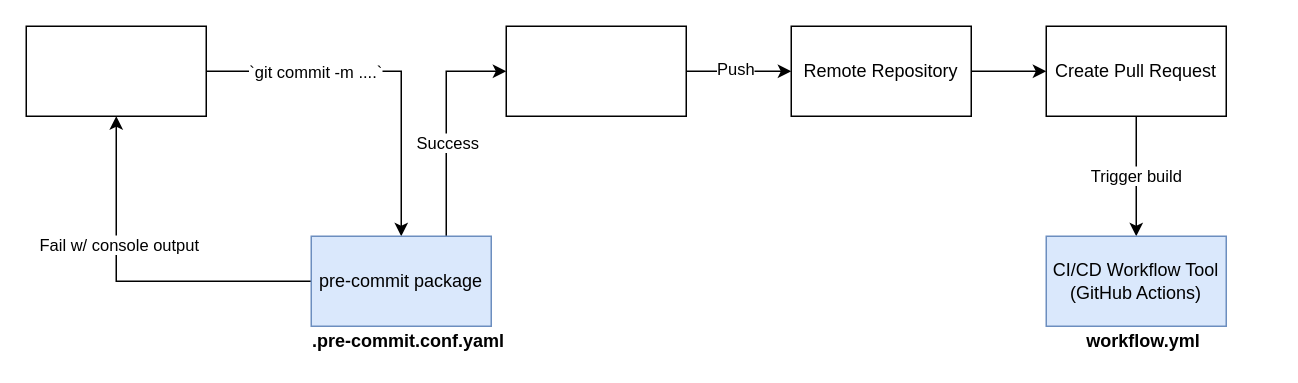
Some shapes in this 1298 by 383 pixel diagram are drawn without their labels. The box of each missing label's shape, as (x1, y1, x2, y2) in pixels:
Commit: (505, 25, 686, 116)
Local Repository: (25, 25, 206, 116)
